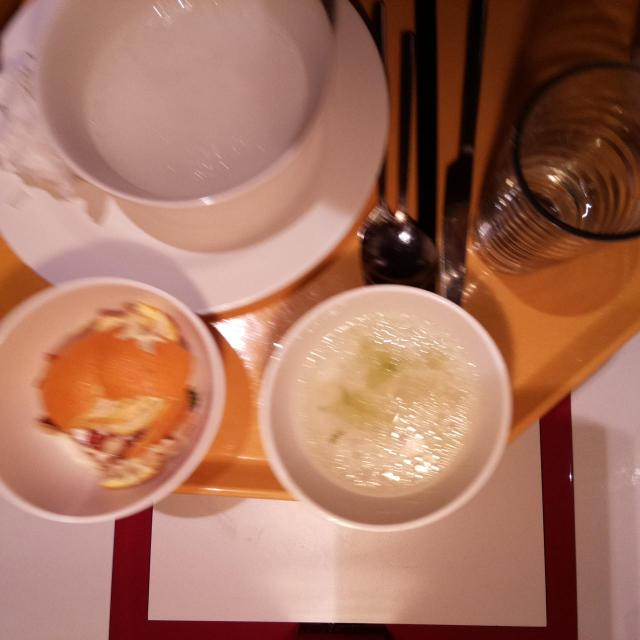Orange-peel: (35, 311, 188, 491)
